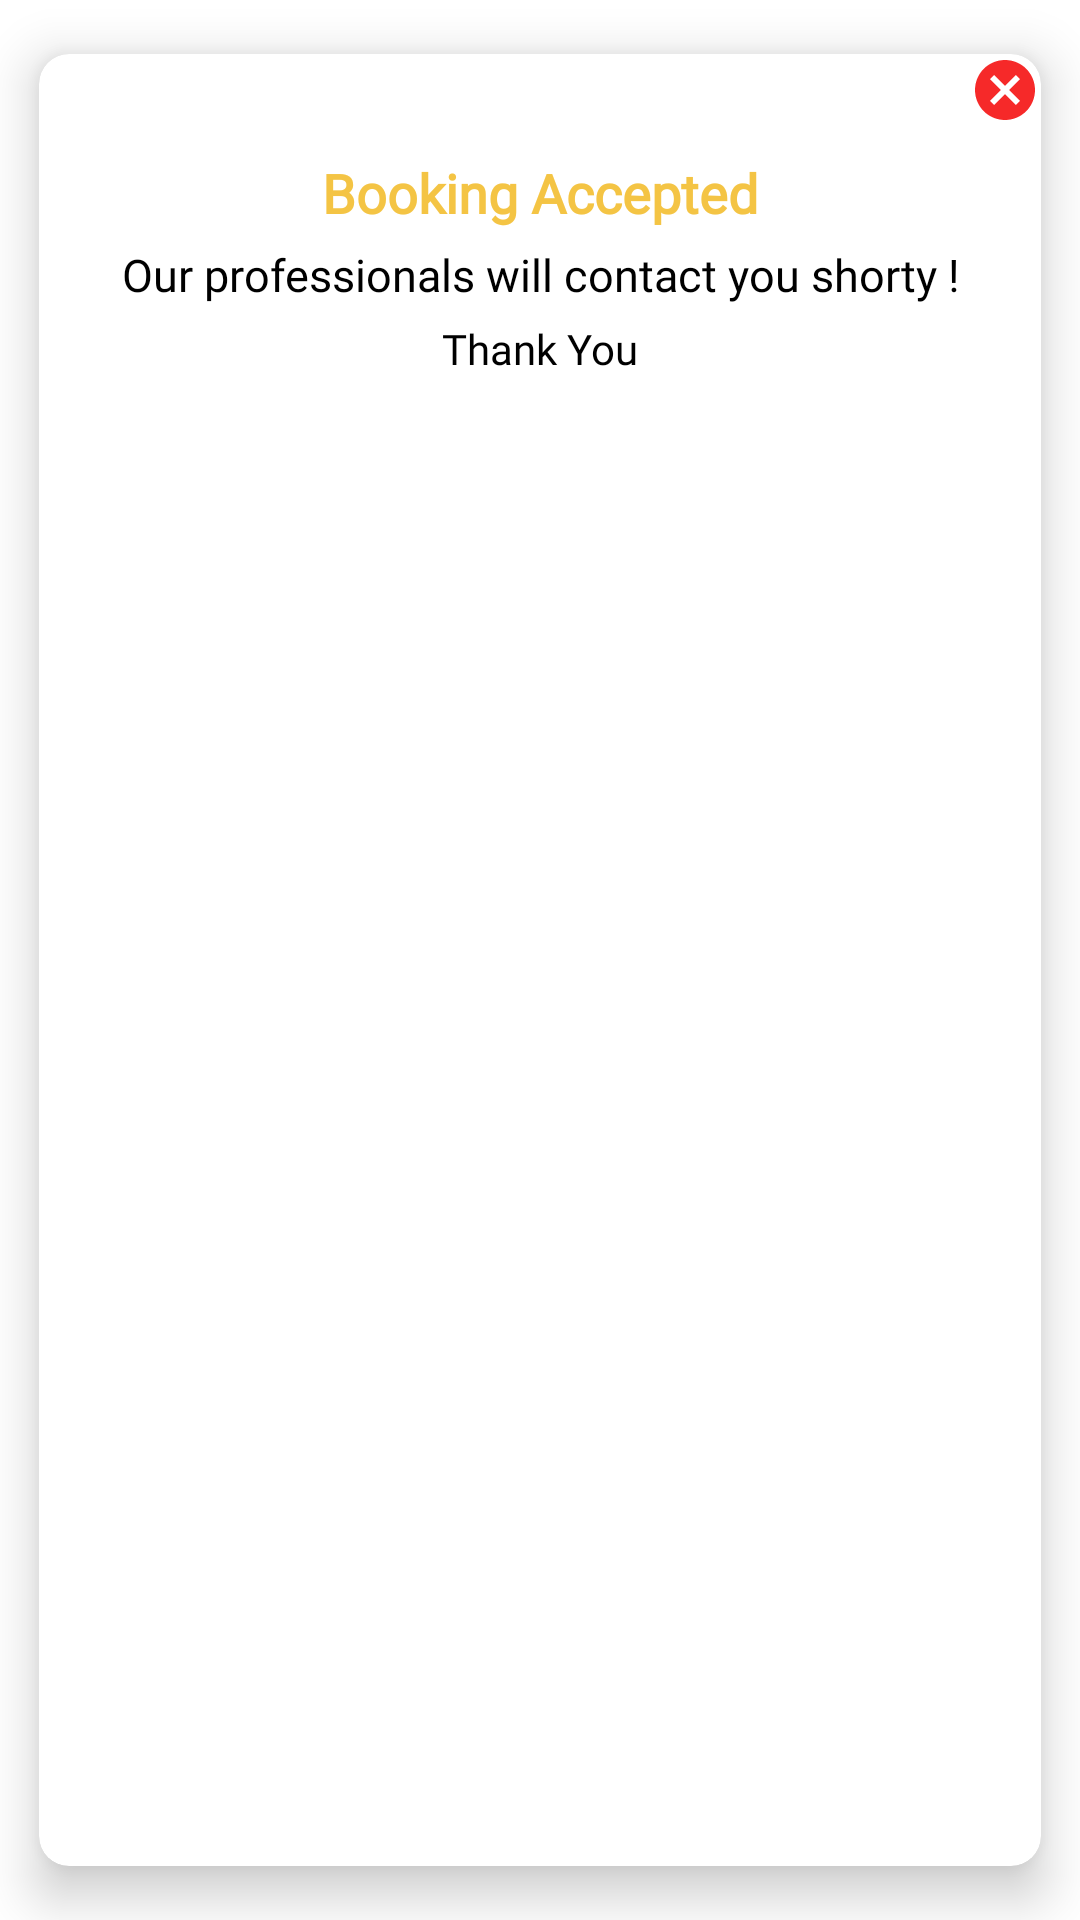

Where icons sit on this 1080x1920 app screen, as (x1, y1, x2, y2):
cancel: (975, 60, 1035, 120)
